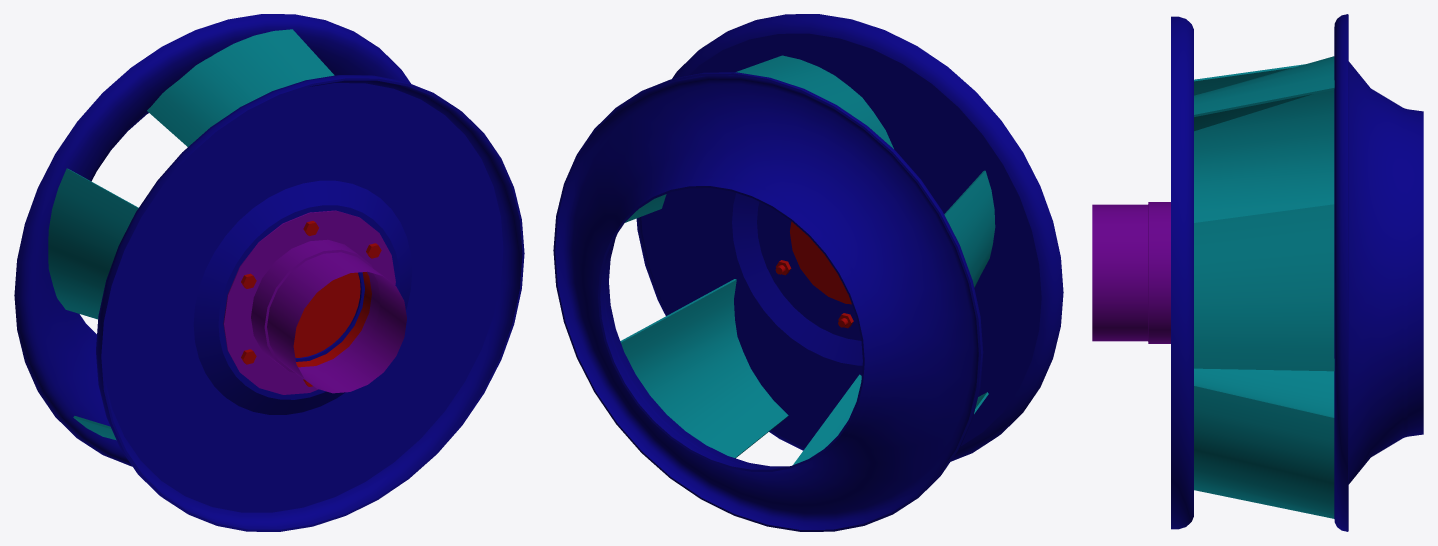
The model's file is vent_nasos_ventil.FBX.
The picture shows the model from 3 angles, left to right: view 1: azimuth 30°, elevation 25°; view 2: azimuth 150°, elevation 25°; view 3: azimuth 270°, elevation 25°; orthographic projection. The views are drawn at different scales.
Parts seen in each view (by area): view 1: vent_nasos_ventil; view 2: vent_nasos_ventil; view 3: vent_nasos_ventil.
Boxes of the visible parts, box(x1,y1,x2,y2) form: vent_nasos_ventil: box(14, 14, 524, 531); vent_nasos_ventil: box(553, 14, 1063, 531); vent_nasos_ventil: box(1092, 14, 1423, 531).
Size of the model in its own units: 419 by 419 by 268.
